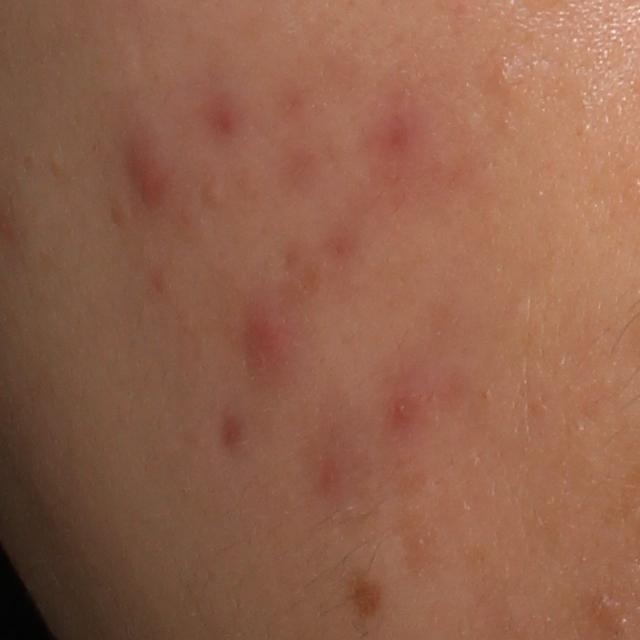comedo: (200, 178, 226, 208)
papule: (252, 310, 284, 377)
